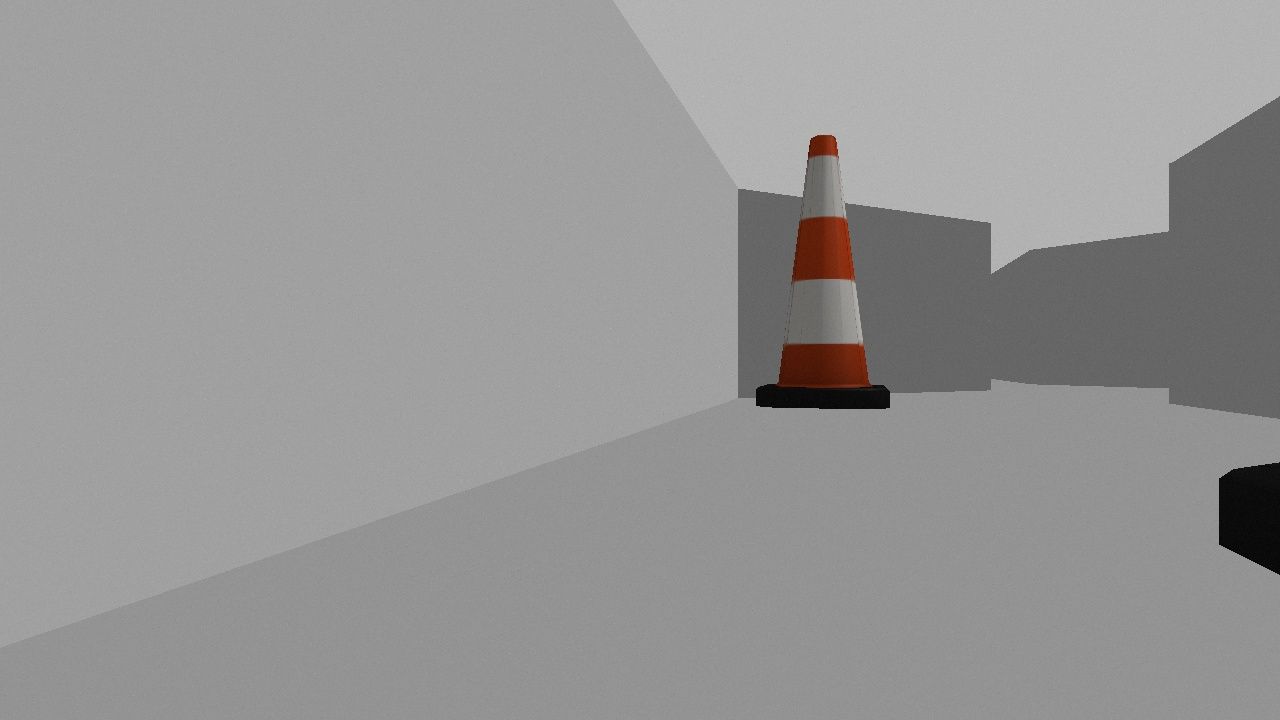barricade: (755, 135, 890, 410)
